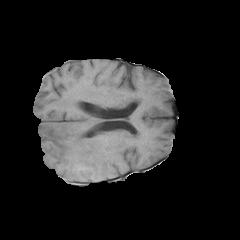glioma: (38, 97, 140, 180)
